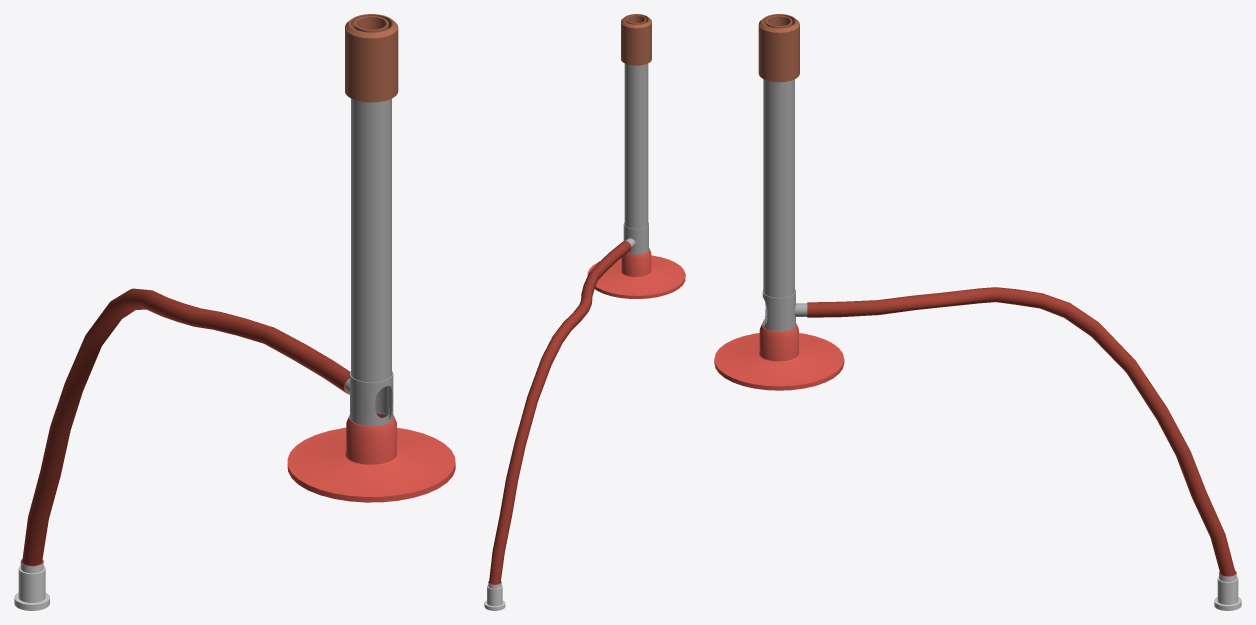
The model's file is burner.fbx.
The picture shows the model from 3 angles, left to right: view 1: azimuth 30°, elevation 25°; view 2: azimuth 150°, elevation 25°; view 3: azimuth 270°, elevation 25°; orthographic projection. The views are drawn at different scales.
Visible parts, largest first — view 1: Circle; view 2: Circle; view 3: Circle.
Boxes of the visible parts, x1,y1,x2,y2 form: Circle: [14, 14, 455, 610]; Circle: [484, 14, 685, 610]; Circle: [714, 14, 1241, 610].
Bounding box in the file's own units: 26.64 × 136 × 108.
